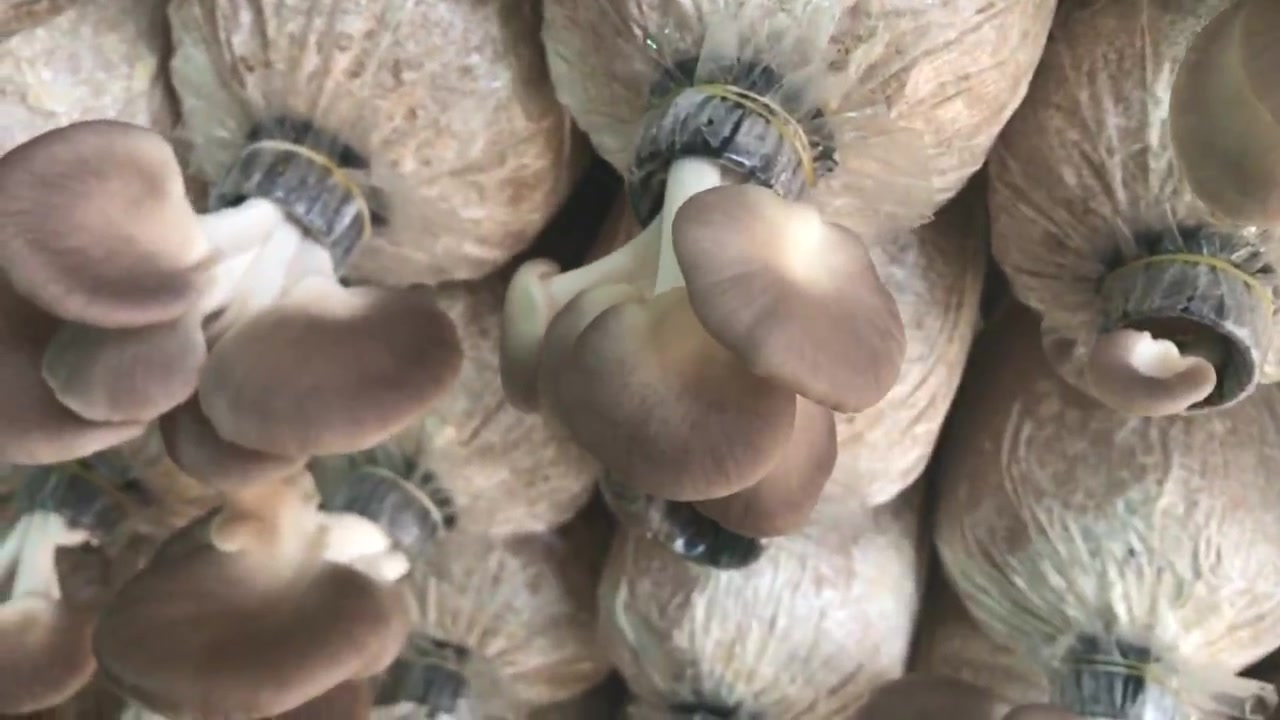nam: (499, 97, 902, 532), (1, 119, 459, 483), (94, 477, 445, 720), (1086, 251, 1264, 416), (1, 463, 96, 717), (1174, 1, 1280, 228)
